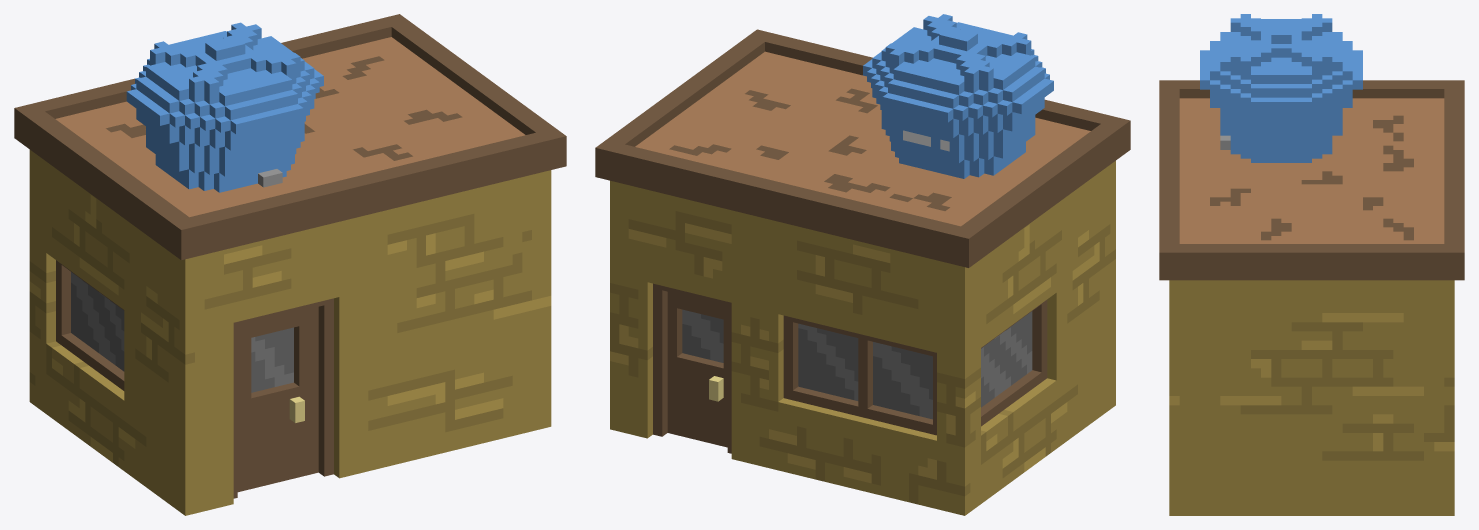
File: variaçõesdecorcasa-10.obj
The picture shows the model from 3 angles, left to right: view 1: azimuth 30°, elevation 25°; view 2: azimuth 150°, elevation 25°; view 3: azimuth 270°, elevation 25°; orthographic projection. The views are drawn at different scales.
Size of the model in its own units: 4 by 4 by 3.
1 material, 1 textured.
